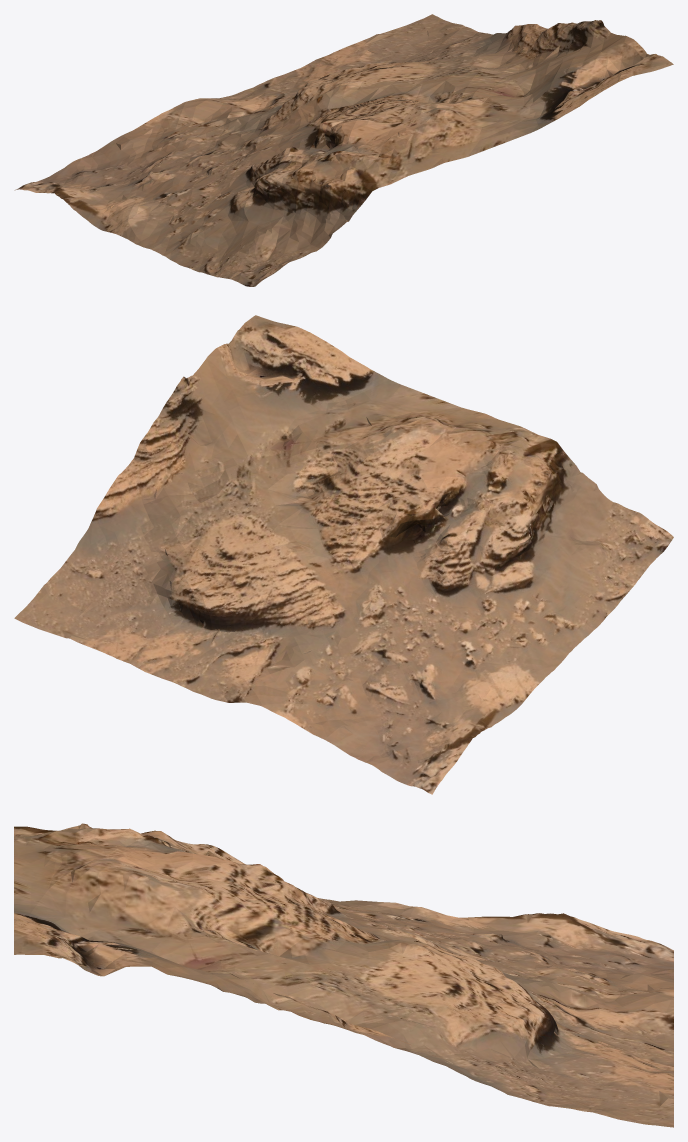
The picture shows the model from 3 angles, top to bottom: view 1: azimuth 30°, elevation 25°; view 2: azimuth 150°, elevation 25°; view 3: azimuth 270°, elevation 25°; orthographic projection. The views are drawn at different scales.
Bounding box in the file's own units: 2.09 × 0.959 × 2.09.
Materials: 3 (3 with a texture image).
